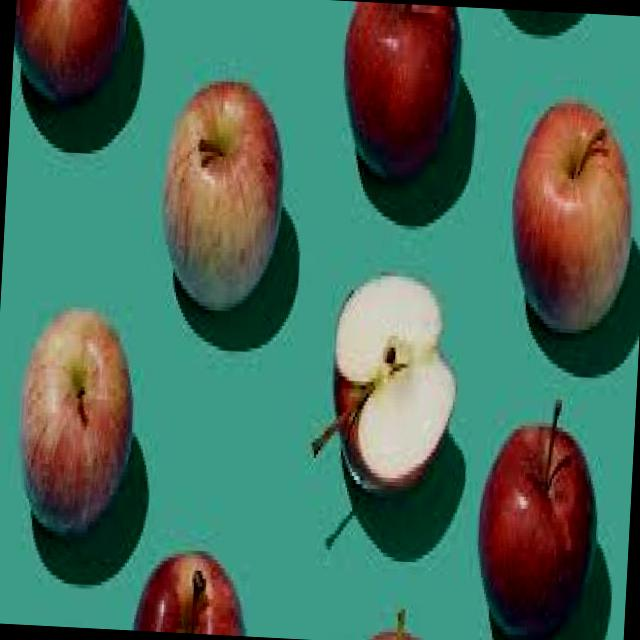Apple: (308, 268, 462, 501), (471, 391, 604, 640), (504, 93, 638, 336), (157, 74, 288, 314), (13, 300, 138, 540), (336, 1, 464, 185), (11, 0, 128, 108), (133, 544, 250, 632)
